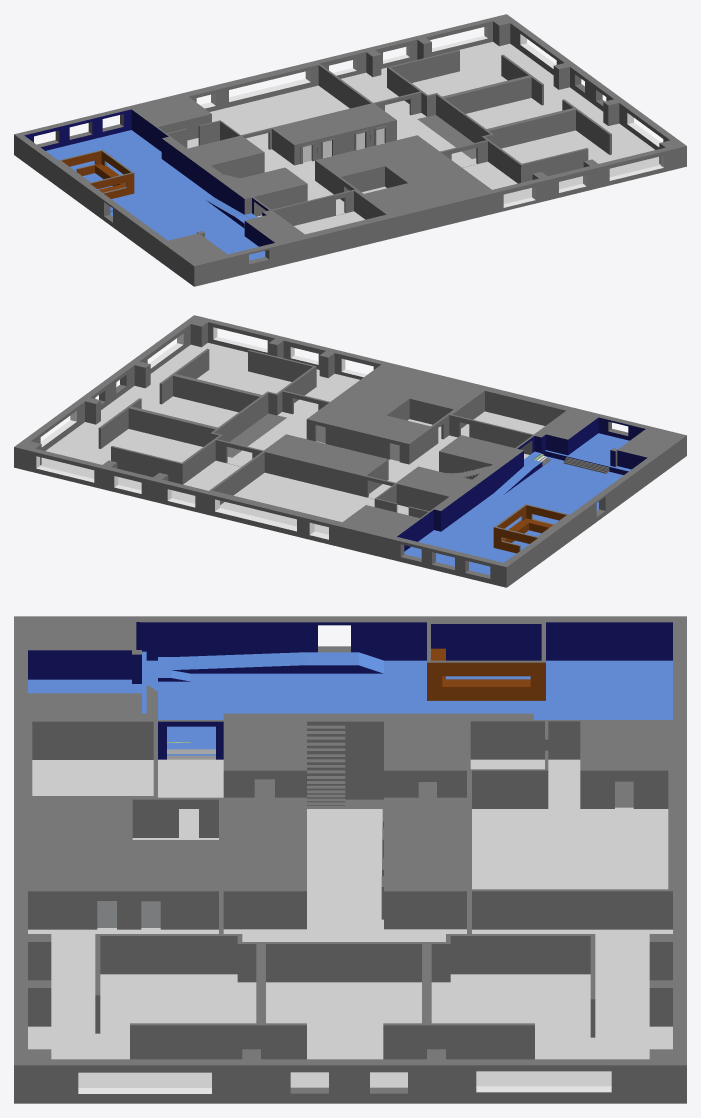
The model's file is studentbreakout.gltf.
The picture shows the model from 3 angles, top to bottom: view 1: azimuth 30°, elevation 25°; view 2: azimuth 150°, elevation 25°; view 3: azimuth 270°, elevation 25°; orthographic projection. The views are drawn at different scales.
Parts seen in each view (by area): view 1: root; view 2: root; view 3: root.
Part boxes in pixels (x1=…): root: x1=14, y1=14, x2=686, y2=286; root: x1=14, y1=315, x2=686, y2=587; root: x1=14, y1=616, x2=686, y2=1103.
Size of the model in its own units: 58.11 by 5.2 by 36.81.
Materials: 8 (2 with a texture image).
